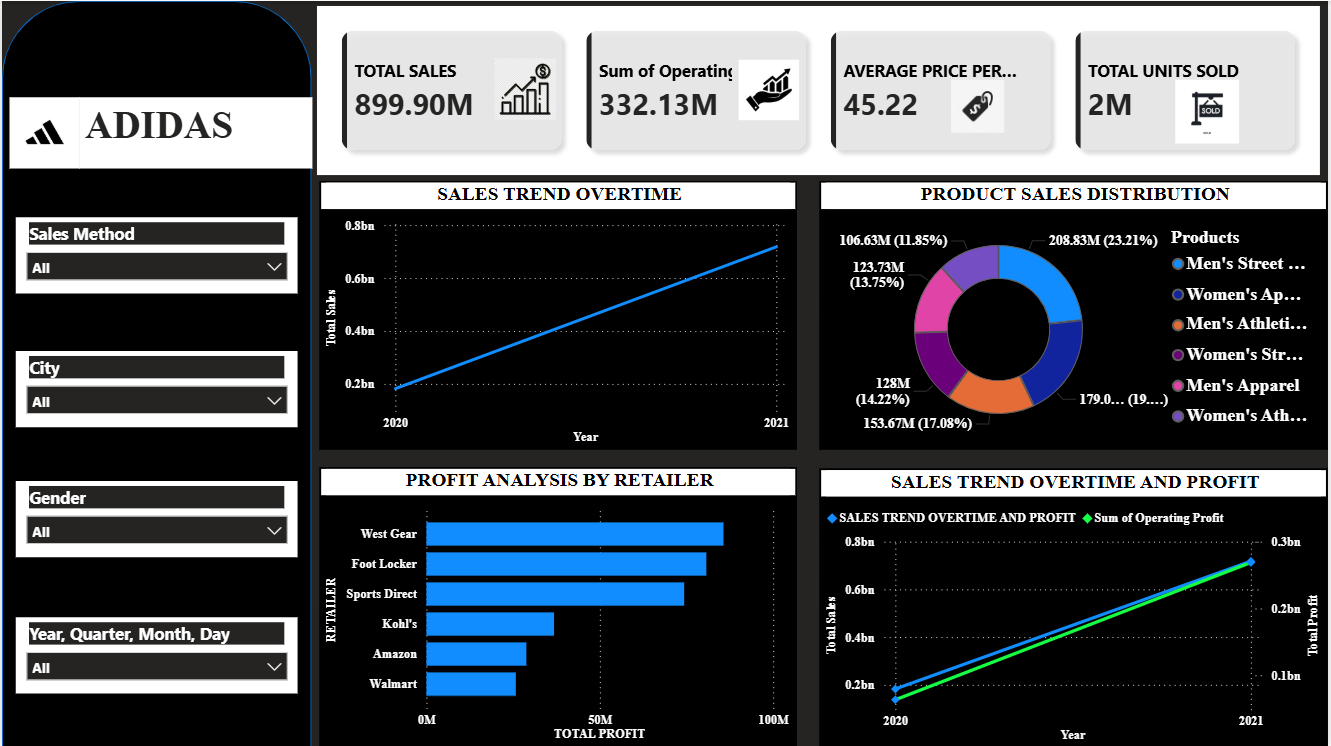

The page's visual inventory and layout, read from the dashboard file:
{"tool":"powerbi","page":{"name":"Sales Overview","canvas":[1280,720],"ordinal":0},"visuals":[{"type":"lineChart","title":"SALES TREND OVERTIME","fields":{"Category":["Data Sales Adidas.Invoice Date.Variation.Date Hierarchy.Year","Data Sales Adidas.Invoice Date.Variation.Date Hierarchy.Quarter","Data Sales Adidas.Invoice Date.Variation.Date Hierarchy.Month","Data Sales Adidas.Invoice Date.Variation.Date Hierarchy.Day"],"Y":["Sum(Data Sales Adidas.Total Sales)"]},"box":[307,173.3,460.5,259.3],"z":1},{"type":"barChart","title":"PROFIT ANALYSIS BY RETAILER","fields":{"Category":["Data Sales Adidas.Retailer"],"Y":["Sum(Data Sales Adidas.Operating Profit)"]},"box":[307,450,460.5,269.8],"z":2},{"type":"donutChart","title":"PRODUCT SALES DISTRIBUTION","fields":{"Category":["Data Sales Adidas.Product"],"Y":["Sum(Data Sales Adidas.Total Sales)"]},"box":[789.5,173.3,490.7,259.3],"z":3},{"type":"lineChart","title":"SALES TREND OVERTIME AND PROFIT","fields":{"Category":["Data Sales Adidas.Invoice Date.Variation.Date Hierarchy.Year","Data Sales Adidas.Invoice Date.Variation.Date Hierarchy.Quarter","Data Sales Adidas.Invoice Date.Variation.Date Hierarchy.Month","Data Sales Adidas.Invoice Date.Variation.Date Hierarchy.Day"],"Y":["Sum(Data Sales Adidas.Total Sales)"],"Y2":["Sum(Data Sales Adidas.Operating Profit)"]},"box":[789.5,451.2,490.7,269.8],"z":4},{"type":"cardVisual","fields":{"Data":["Sum(Data Sales Adidas.Total Sales)","Sum(Data Sales Adidas.Operating Profit)","Avg(Data Sales Adidas.Price per Unit)","Sum(Data Sales Adidas.Units Sold)"]},"box":[298.8,0,981.4,173.3],"z":7},{"type":"image","box":[475.6,51.2,59.3,68.6],"z":8},{"type":"image","box":[704.7,57,70.9,58.1],"z":9},{"type":"image","box":[909.3,75.6,64,51.2],"z":10},{"type":"image","box":[1124.4,75.6,77.9,61.6],"z":11},{"type":"shape","box":[0,0,298.8,720.9],"z":12},{"type":"image","box":[0,93.3,82.3,68.6],"z":13},{"type":"textbox","box":[74.4,93,224.4,68.6],"z":16},{"type":"slicer","fields":{"Values":["Data Sales Adidas.Sales Method"]},"box":[12.8,208.1,272.1,73.3],"z":17},{"type":"slicer","fields":{"Values":["Data Sales Adidas.City"]},"box":[12.8,338.4,272.1,73.3],"z":18},{"type":"slicer","fields":{"Values":["Data Sales Adidas.Gender"]},"box":[12.8,462.8,272.1,73.3],"z":19},{"type":"slicer","fields":{"Values":["Data Sales Adidas.Invoice Date.Variation.Date Hierarchy.Year","Data Sales Adidas.Invoice Date.Variation.Date Hierarchy.Quarter","Data Sales Adidas.Invoice Date.Variation.Date Hierarchy.Month","Data Sales Adidas.Invoice Date.Variation.Date Hierarchy.Day"]},"box":[12.8,594.2,272.1,73.3],"z":20}]}

Visuals, with their boxes in screenshot pixels (x1, y1, x2, y2), scaled from the page's 1280x720 canvas onto the 1331x746 screenshot:
"SALES TREND OVERTIME" lineChart: 319,180,798,448
"PROFIT ANALYSIS BY RETAILER" barChart: 319,466,798,745
"PRODUCT SALES DISTRIBUTION" donutChart: 821,180,1330,448
"SALES TREND OVERTIME AND PROFIT" lineChart: 821,467,1330,745
cardVisual - Sum(Data Sales Adidas.Total Sales) x Sum(Data Sales Adidas.Operating Profit): 311,0,1330,180
image: 495,53,556,124
image: 733,59,807,119
image: 946,78,1012,131
image: 1169,78,1250,142
shape: 0,0,311,745
image: 0,97,86,168
textbox: 77,96,311,167
slicer - Data Sales Adidas.Sales Method: 13,216,296,292
slicer - Data Sales Adidas.City: 13,351,296,427
slicer - Data Sales Adidas.Gender: 13,480,296,555
slicer - Data Sales Adidas.Invoice Date.Variation.Date Hierarchy.Year x Data Sales Adidas.Invoice Date.Variation.Date Hierarchy.Quarter: 13,616,296,692
